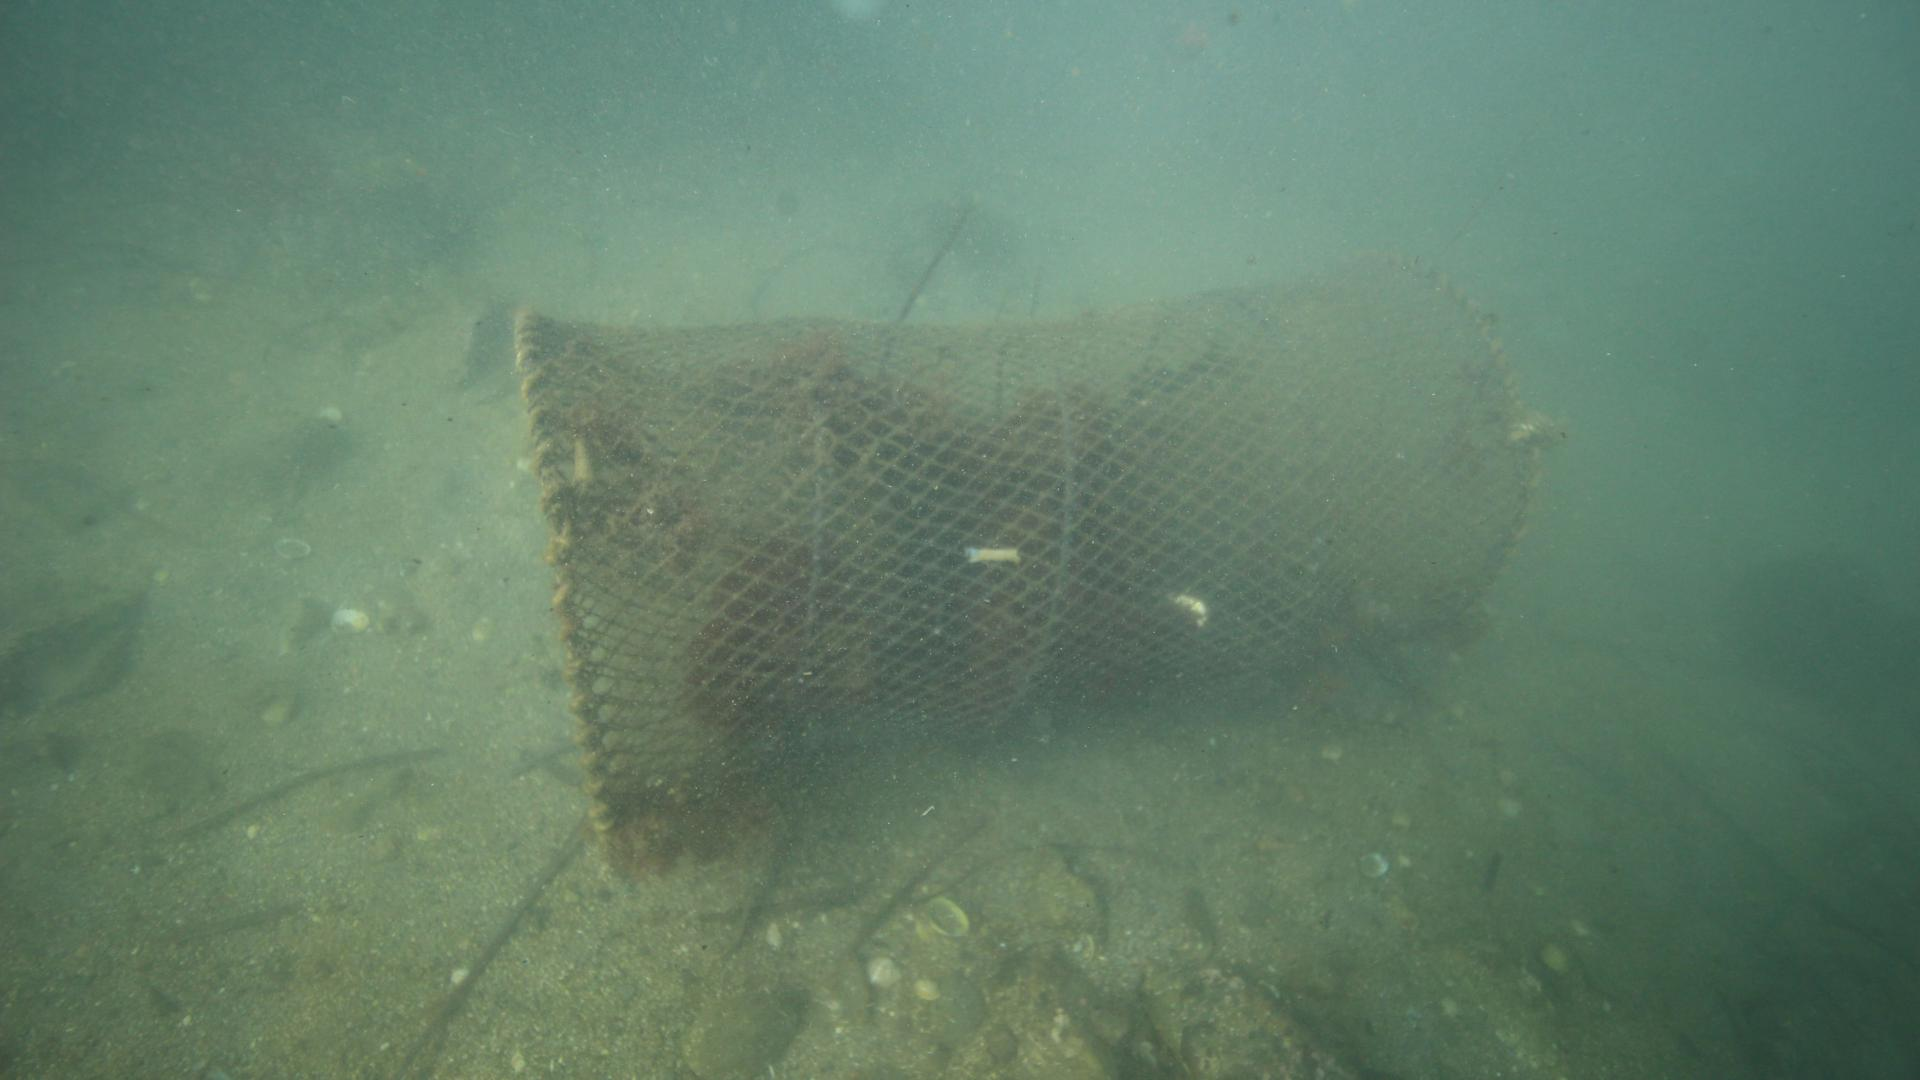spring fish trap: (514, 248, 1534, 856)
